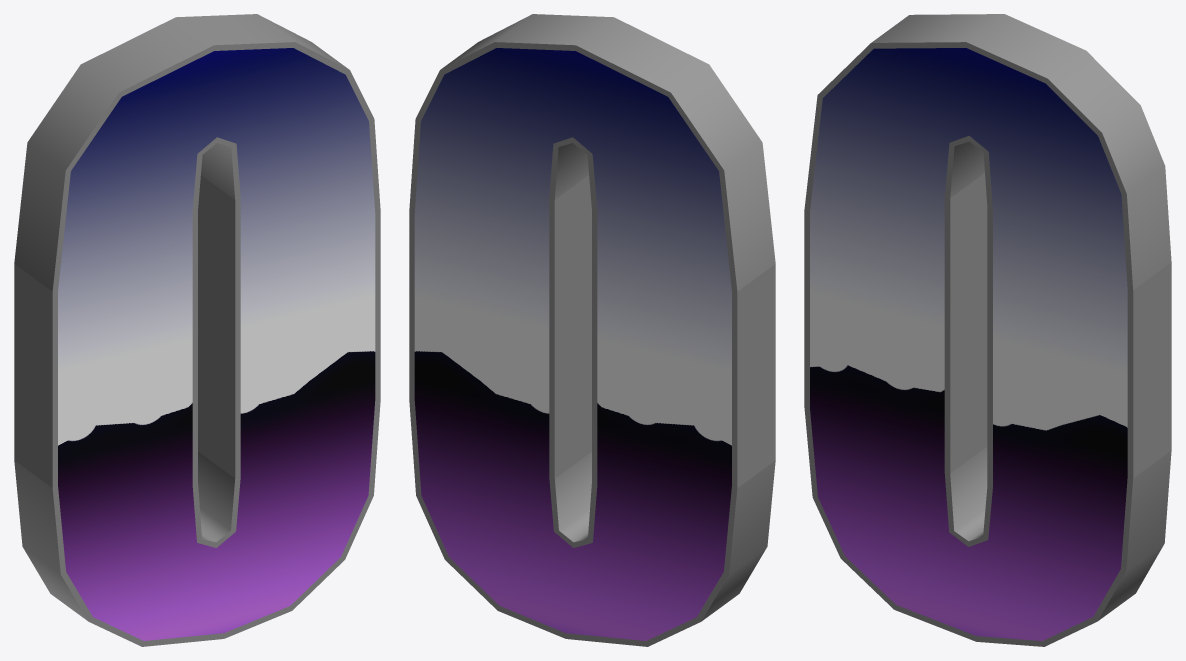
3 renders of one model, left to right at view 1: azimuth 30°, elevation 25°; view 2: azimuth 150°, elevation 25°; view 3: azimuth 330°, elevation 25°, orthographic.
Parts seen in each view (by area): view 1: 0, 0_outline; view 2: 0, 0_outline; view 3: 0, 0_outline.
Boxes of the visible parts, x1,y1,x2,y2 form: 0: (58, 48, 375, 640); 0_outline: (14, 14, 380, 646); 0: (414, 48, 731, 640); 0_outline: (409, 14, 775, 646); 0: (810, 48, 1127, 640); 0_outline: (804, 14, 1171, 646).
Bounding box in the file's own units: 59.3 × 103 × 12.
Materials: 2 (1 with a texture image).
